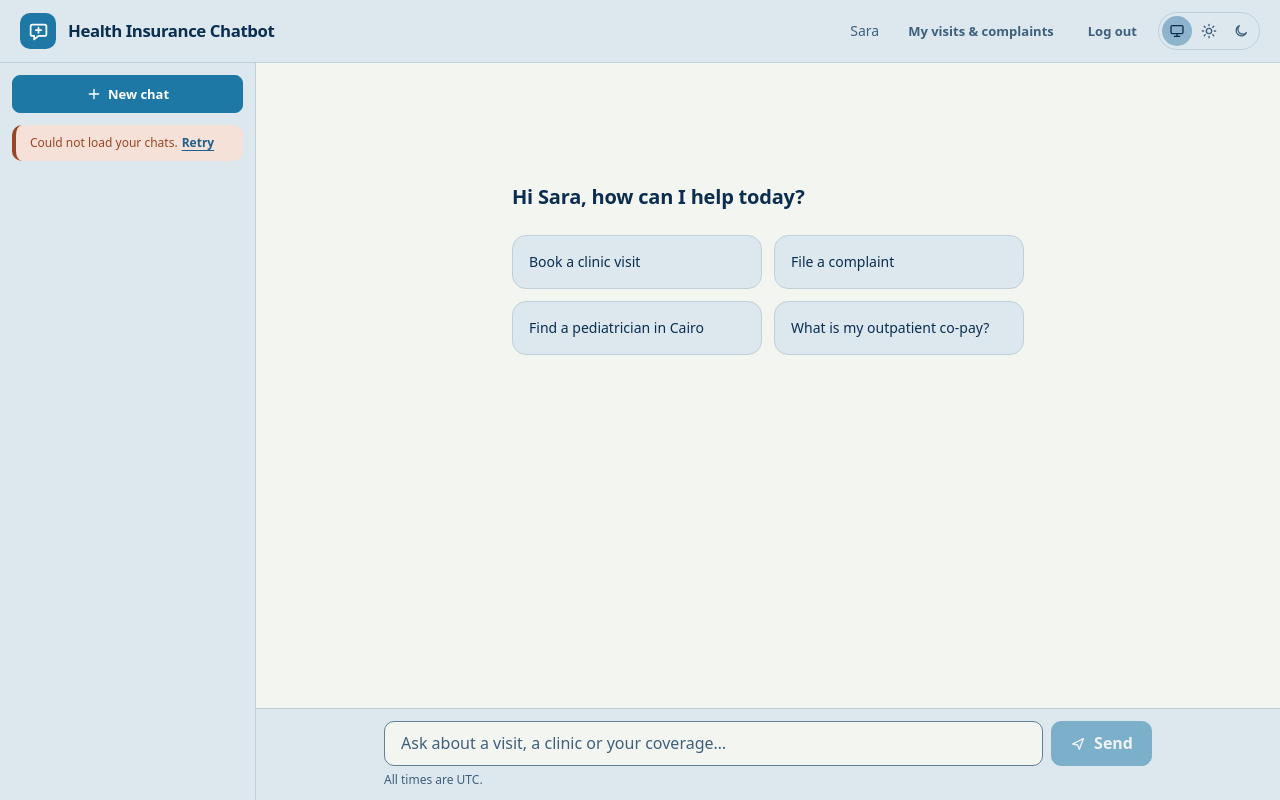
Test case: ChatPage › a failed chat list load shows an error with Retry instead of an empty sidebar
The image size is (1280, 800).
Expected: the element with test id "sessions-error" shows "Could not load your chats.", x1=30 y1=134 x2=178 y2=151
Click the button with test id "sessions-retry-btn" at (198, 143), box x1=182 y1=135 x2=214 y2=151
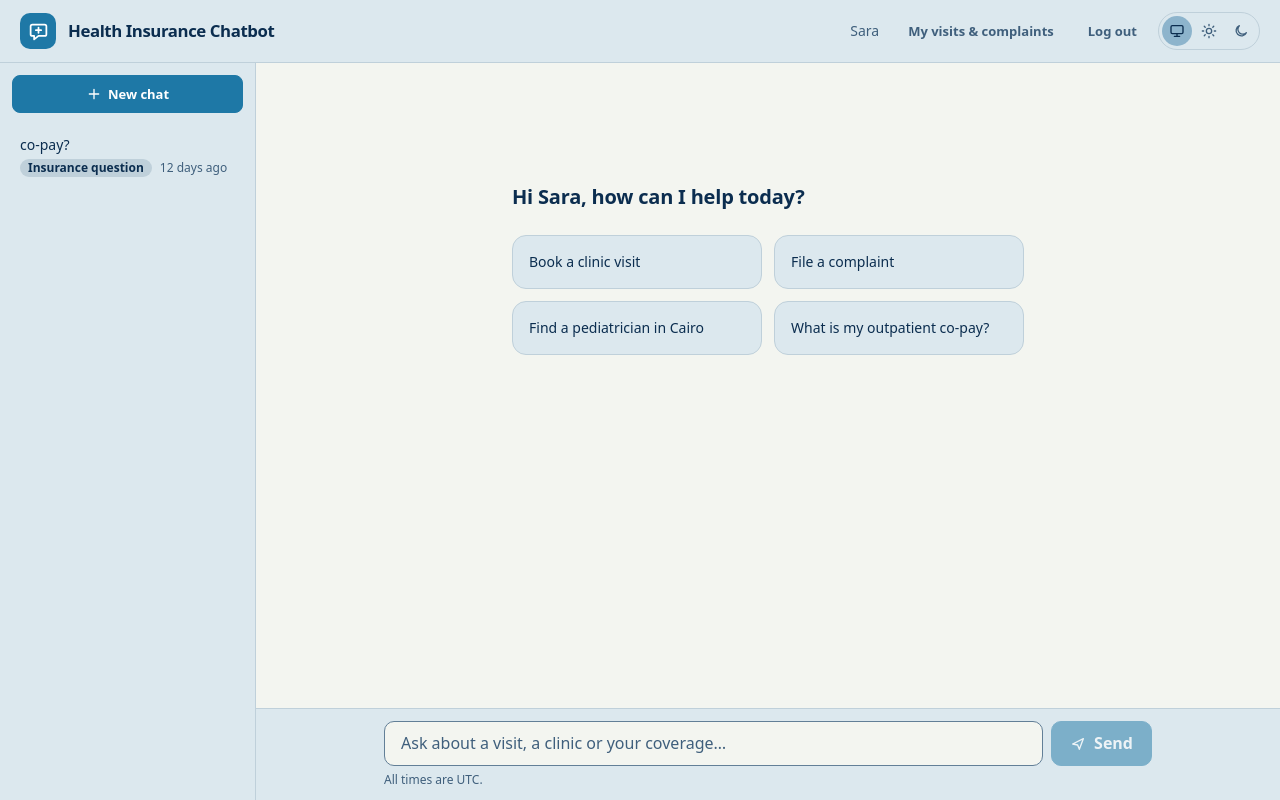
Expected: the text with test id "session-title" reads "co-pay?", x1=20 y1=135 x2=70 y2=154
Expected: the element with test id "sessions-error" is gone
